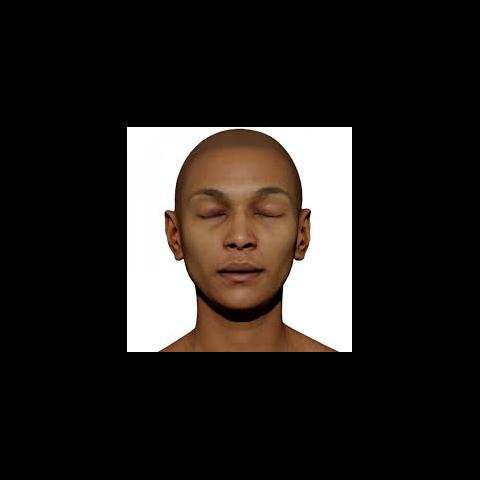closed: (189, 184, 292, 224)
